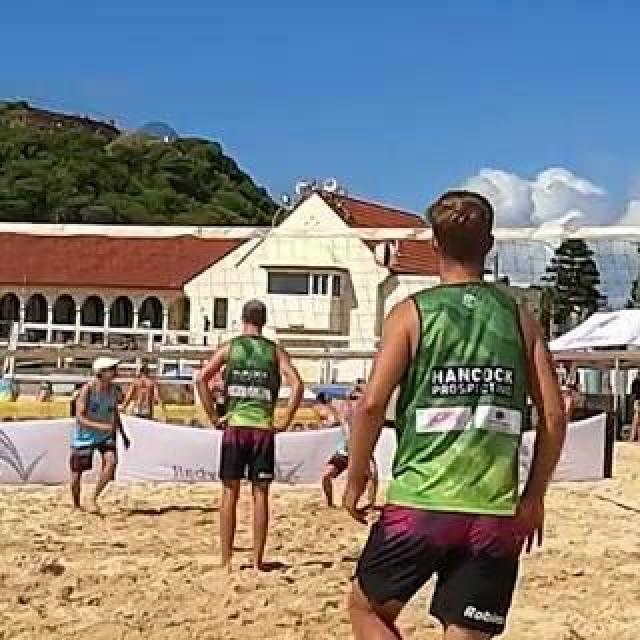volleyball: (374, 242, 398, 266)
